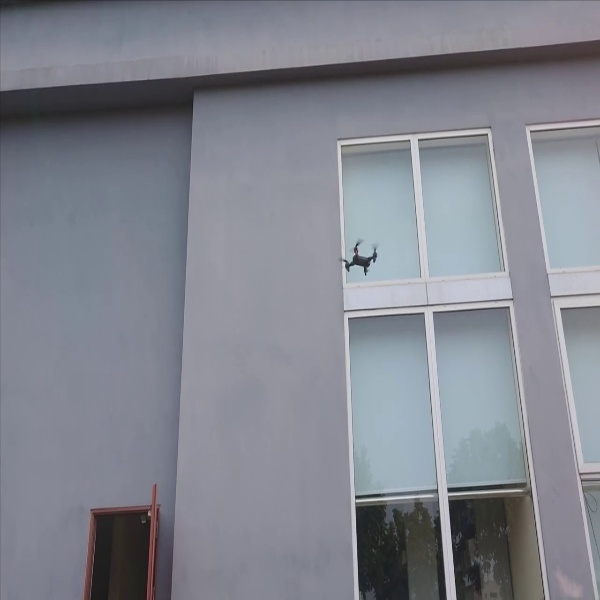drone: (338, 237, 383, 277)
